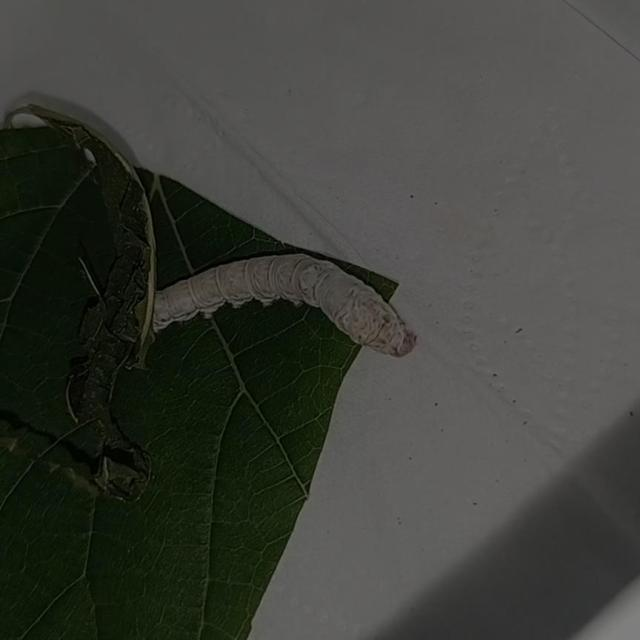Healthy: (114, 225, 450, 385)
